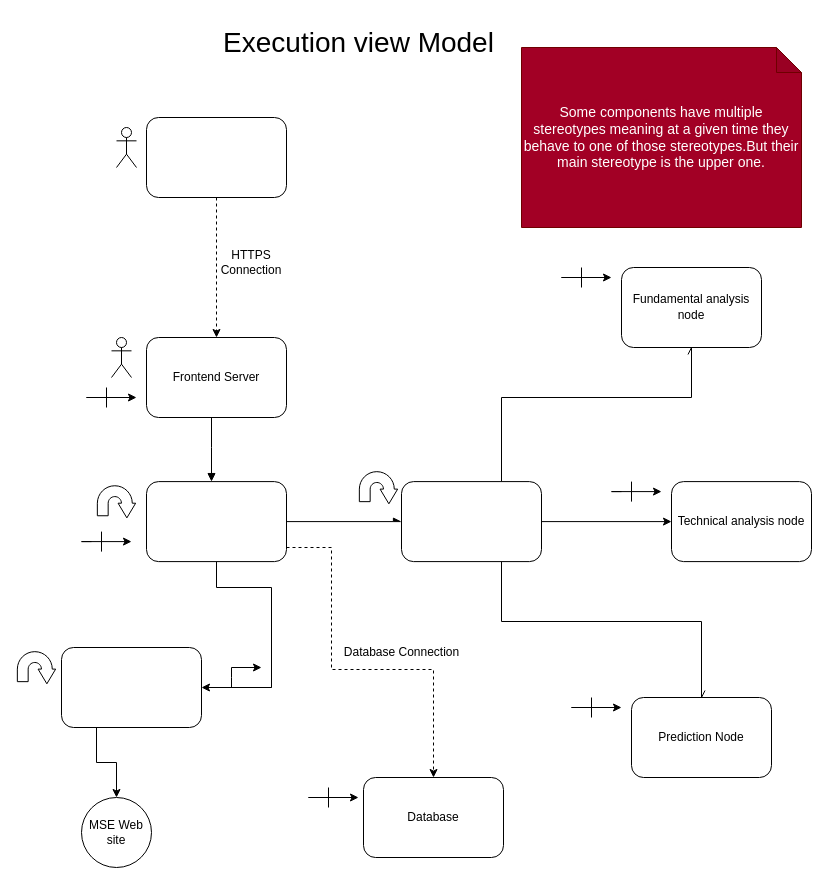
The diagram is 830 pixels wide and 885 high, and some of its shapes have lost their labels. Each missing label, with the centre of its shape:
"Analysis Node" goes at pixel 471 521.
"Backend Server" goes at pixel 216 521.
"Web Browser" goes at pixel 216 157.
"Web scraping" goes at pixel 131 687.
